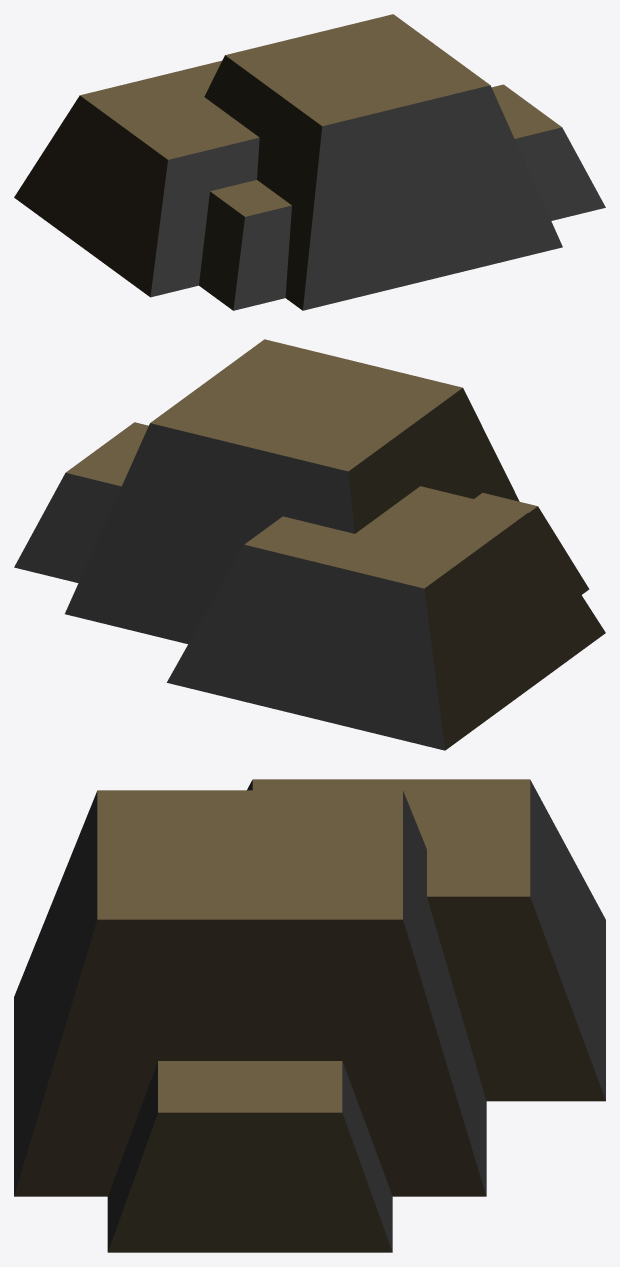
The model's file is SM_Env_Rock_Grey_01.gltf.
The picture shows the model from 3 angles, top to bottom: view 1: azimuth 30°, elevation 25°; view 2: azimuth 150°, elevation 25°; view 3: azimuth 270°, elevation 25°; orthographic projection. The views are drawn at different scales.
Visible parts, largest first — view 1: SM_Env_Rock_Grey_01; view 2: SM_Env_Rock_Grey_01; view 3: SM_Env_Rock_Grey_01.
Boxes of the visible parts, box(x1,y1,x2,y2) form: SM_Env_Rock_Grey_01: box(14, 14, 605, 310); SM_Env_Rock_Grey_01: box(14, 339, 605, 750); SM_Env_Rock_Grey_01: box(14, 779, 605, 1252).
Size of the model in its own units: 1.76 by 0.5957 by 1.32.
Materials: 1 (1 with a texture image).
